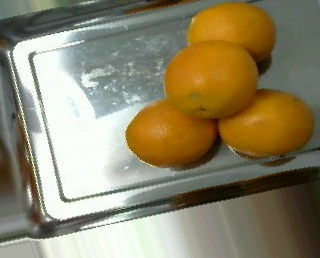Orange: (163, 39, 258, 119), (217, 87, 315, 157), (125, 99, 217, 169), (185, 3, 277, 70)
